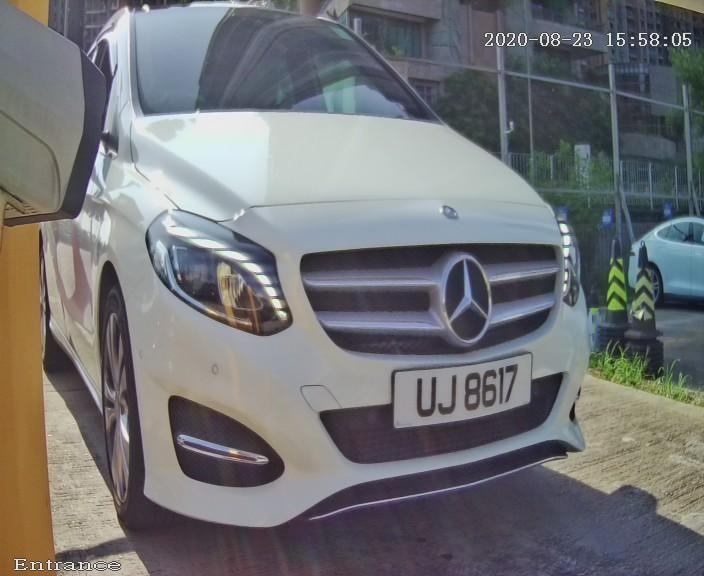Car: (16, 1, 645, 574)
License Plate: (372, 320, 549, 448)
